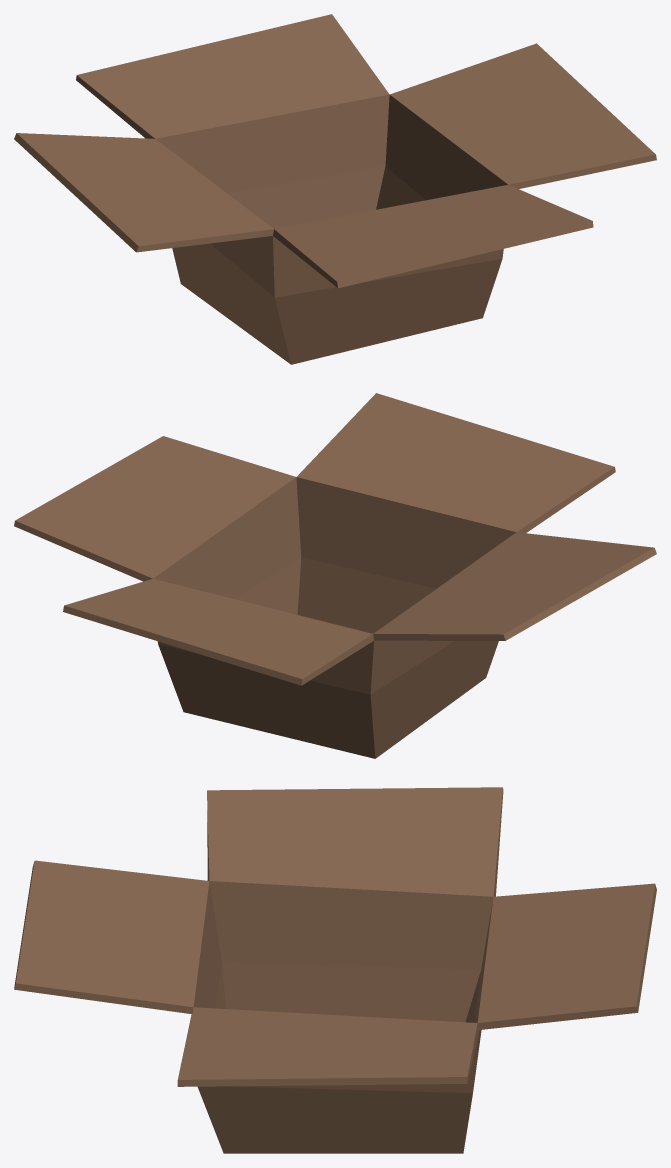
The model's file is friend_cardboardBox.fbx.
The picture shows the model from 3 angles, top to bottom: view 1: azimuth 30°, elevation 25°; view 2: azimuth 150°, elevation 25°; view 3: azimuth 270°, elevation 25°; orthographic projection. The views are drawn at different scales.
Visible parts, largest first — view 1: cardboard_box; view 2: cardboard_box; view 3: cardboard_box.
Part boxes in pixels (bbox=[...]): cardboard_box: bbox=[14, 14, 656, 364]; cardboard_box: bbox=[14, 393, 656, 758]; cardboard_box: bbox=[14, 787, 656, 1153].
Size of the model in its own units: 9.37 by 2.98 by 9.23.
